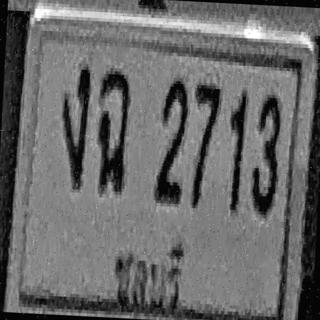A07: (58, 61, 92, 188)
A09: (95, 66, 131, 194)
N01: (226, 89, 248, 212)
N02: (154, 75, 189, 203)
N03: (250, 91, 282, 215)
N07: (190, 80, 221, 208)
P13: (107, 231, 188, 320)
